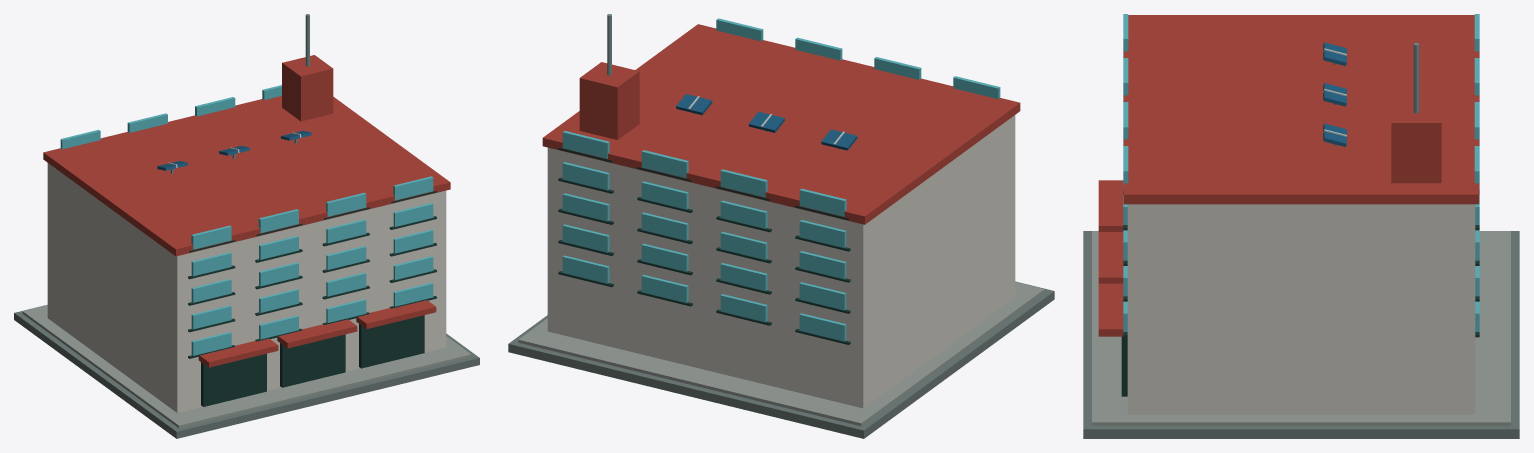
Rendered from fire_lv4.glb.
3 views of the same model, side by side, from view 1: azimuth 30°, elevation 25°; view 2: azimuth 150°, elevation 25°; view 3: azimuth 270°, elevation 25° (orthographic). The views are drawn at different scales.
Visible parts, largest first — view 1: rough, glossy, metallic; view 2: rough, glossy, metallic; view 3: rough, glossy, metallic.
Boxes of the visible parts, box(x1,y1,x2,y2) form: rough: box(14, 55, 479, 438); glossy: box(60, 85, 433, 355); metallic: box(157, 14, 311, 173); rough: box(508, 24, 1054, 438); glossy: box(562, 18, 1000, 341); metallic: box(607, 14, 857, 150); rough: box(1083, 15, 1519, 438); glossy: box(1123, 14, 1479, 331); metallic: box(1323, 42, 1419, 146).
Bounding box in the file's own units: 9.8 × 8.37 × 9.1.
